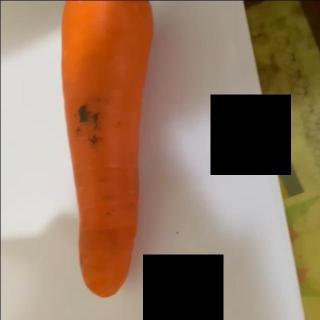carrot: (52, 0, 156, 300)
